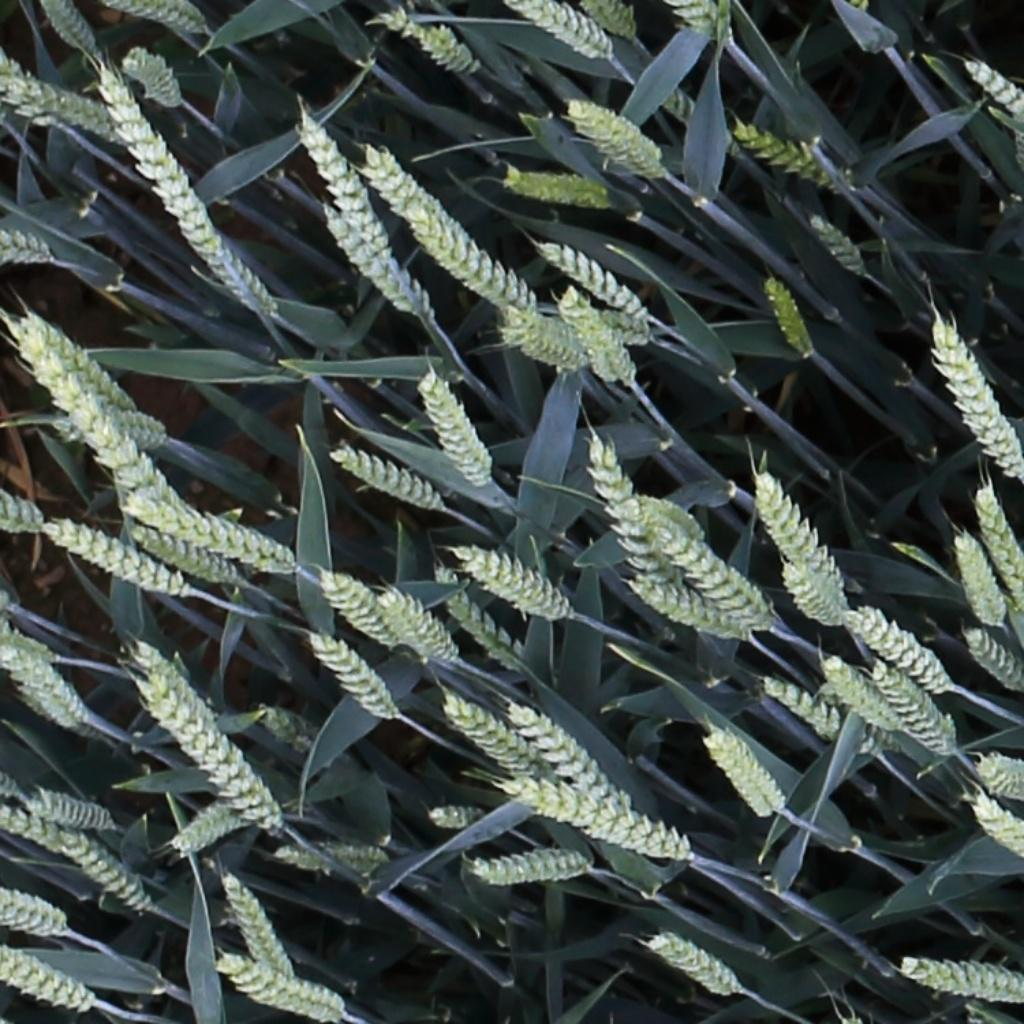0-0: (1, 311, 175, 497), (360, 143, 540, 314), (96, 57, 221, 254), (134, 681, 277, 832), (288, 106, 398, 273), (928, 312, 1024, 481), (583, 426, 675, 602), (498, 779, 690, 862), (506, 700, 628, 812), (748, 465, 846, 598), (318, 208, 430, 322), (120, 496, 289, 569), (27, 312, 141, 417), (651, 527, 770, 622), (42, 520, 182, 599), (533, 240, 651, 322), (413, 368, 491, 491), (48, 832, 151, 921), (845, 604, 948, 692), (214, 957, 348, 1024), (434, 567, 518, 669), (441, 696, 544, 779), (221, 870, 297, 982), (869, 662, 955, 760), (453, 547, 570, 619), (305, 633, 398, 723), (126, 638, 214, 730), (558, 286, 637, 387), (3, 634, 89, 725), (703, 726, 785, 821), (731, 120, 842, 188), (329, 446, 442, 509), (568, 98, 664, 172), (973, 484, 1024, 623), (315, 567, 395, 648), (629, 580, 742, 637), (643, 931, 740, 996), (128, 524, 233, 584), (901, 957, 1024, 1008), (374, 589, 457, 664), (821, 658, 901, 735), (2, 74, 111, 129), (0, 947, 92, 1011), (951, 527, 1007, 632), (380, 9, 471, 72), (510, 0, 607, 58), (53, 408, 171, 455), (499, 308, 593, 367), (757, 268, 815, 361), (962, 57, 1024, 144), (472, 845, 592, 887), (776, 559, 845, 632), (759, 677, 838, 740), (502, 167, 614, 209), (804, 207, 871, 277), (963, 628, 1024, 699), (270, 844, 393, 879), (172, 798, 242, 859), (973, 800, 1024, 877), (18, 790, 118, 828), (102, 1, 211, 35), (121, 46, 178, 109), (0, 808, 69, 858), (40, 0, 98, 57), (0, 890, 69, 937), (640, 489, 712, 533), (1, 625, 60, 674), (0, 229, 58, 271), (974, 761, 1024, 802), (581, 0, 634, 38), (673, 1, 725, 38), (427, 803, 488, 829), (2, 497, 42, 536)
